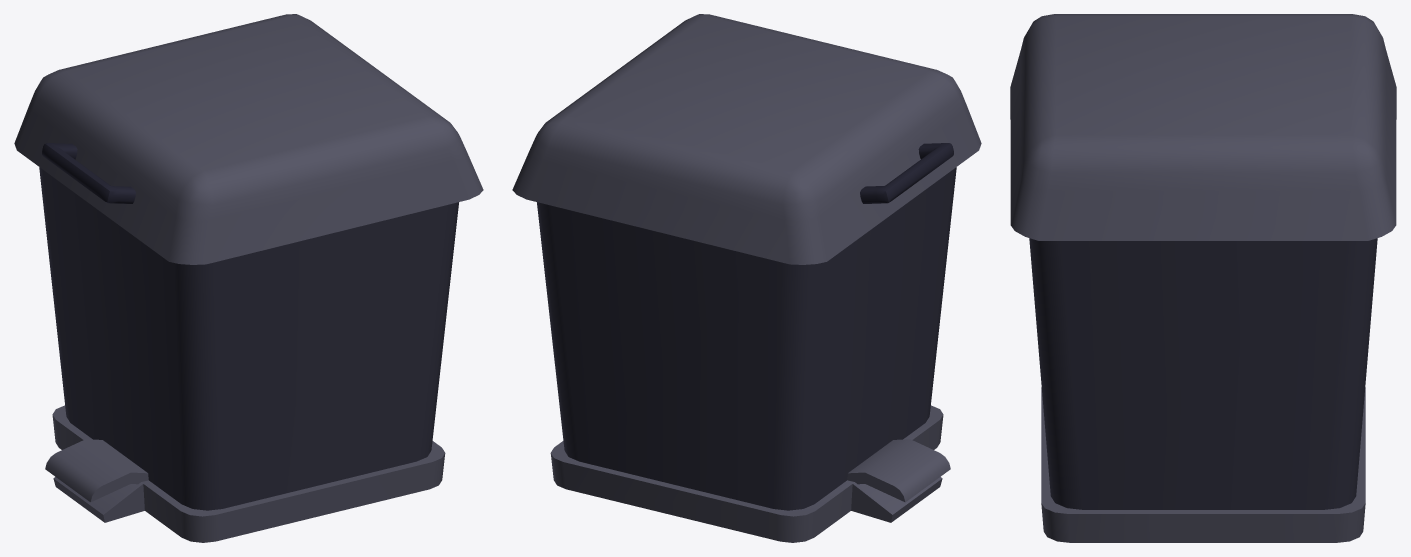
The model's file is cesto_basur.fbx.
3 views of the same model, side by side, from view 1: azimuth 30°, elevation 25°; view 2: azimuth 150°, elevation 25°; view 3: azimuth 270°, elevation 25° (orthographic). The views are drawn at different scales.
Parts seen in each view (by area): view 1: cesto_basur.001, cesto_basurtapa.001; view 2: cesto_basur.001, cesto_basurtapa.001; view 3: cesto_basur.001, cesto_basurtapa.001.
Part boxes in pixels (left/top/right/bottom): cesto_basur.001: left=39, top=167, right=458, bottom=542; cesto_basurtapa.001: left=14, top=14, right=483, bottom=264; cesto_basur.001: left=537, top=167, right=956, bottom=542; cesto_basurtapa.001: left=512, top=14, right=981, bottom=264; cesto_basur.001: left=1029, top=238, right=1377, bottom=542; cesto_basurtapa.001: left=1010, top=14, right=1396, bottom=240.
Size of the model in its own units: 158 by 166 by 145.
